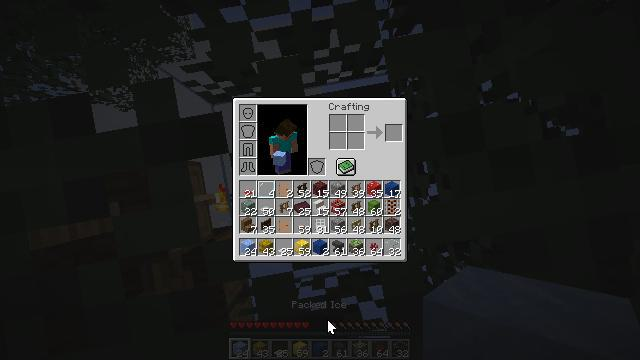cursor: (327, 319, 337, 335)
